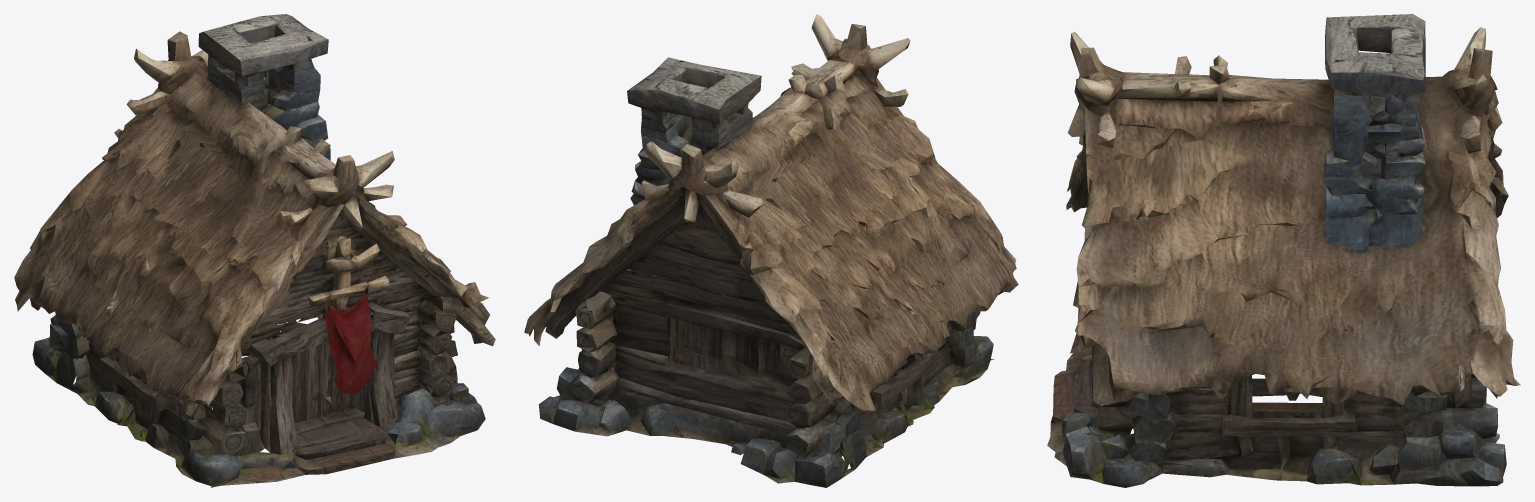
Rendered from house_thorn.glb.
The picture shows the model from 3 angles, left to right: view 1: azimuth 30°, elevation 25°; view 2: azimuth 150°, elevation 25°; view 3: azimuth 270°, elevation 25°; orthographic projection. The views are drawn at different scales.
Parts seen in each view (by area): view 1: house_thorn; view 2: house_thorn; view 3: house_thorn.
Part boxes in pixels (x1,y1,x2,y2): house_thorn: (14, 14, 495, 487); house_thorn: (524, 14, 1018, 487); house_thorn: (1047, 14, 1520, 487).
Bounding box in the file's own units: 1.26 × 1.19 × 1.31.
Materials: 1 (1 with a texture image).
